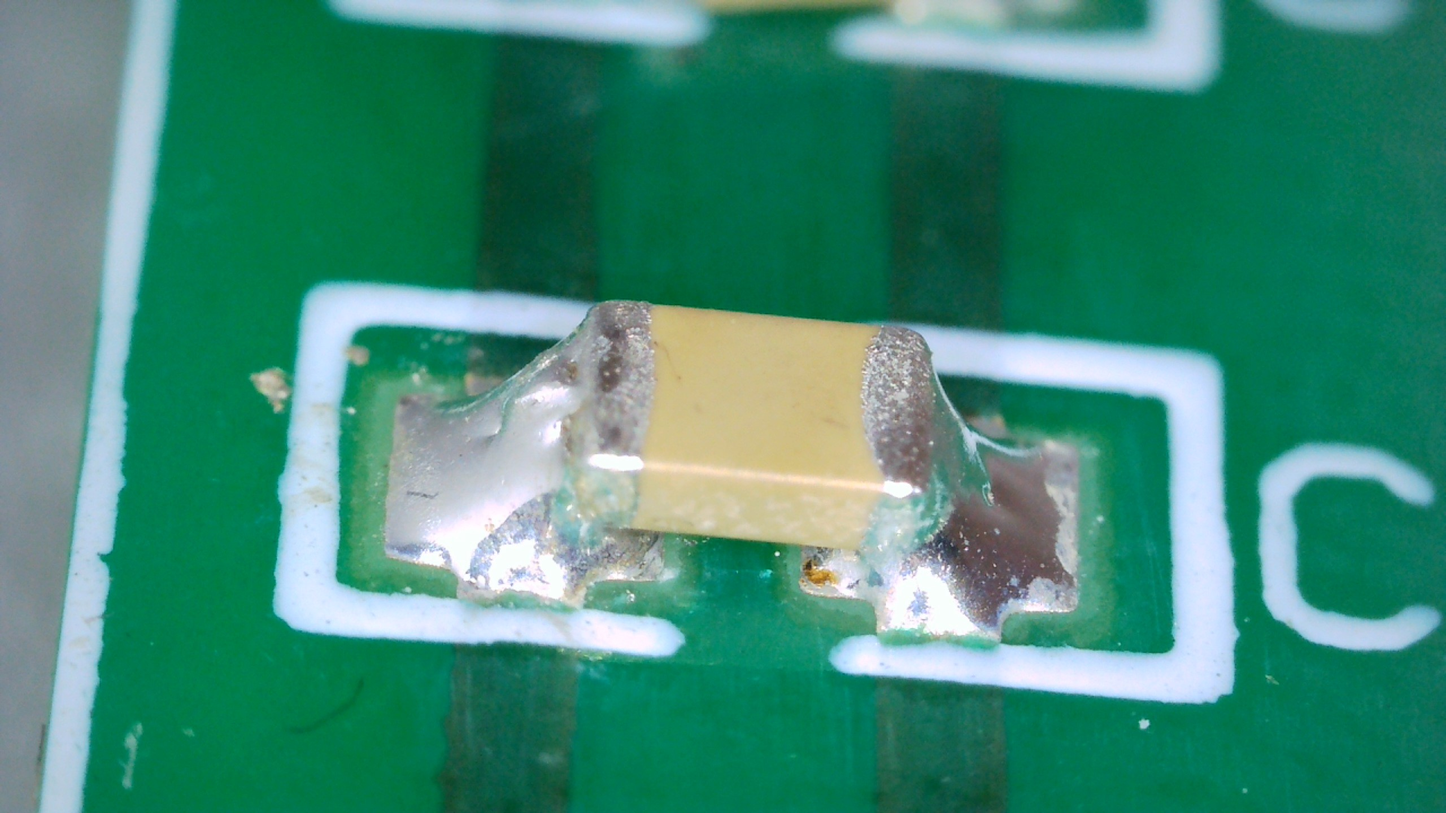NG: (493, 381, 585, 446)
OK: (384, 302, 664, 601), (811, 327, 1077, 639)
